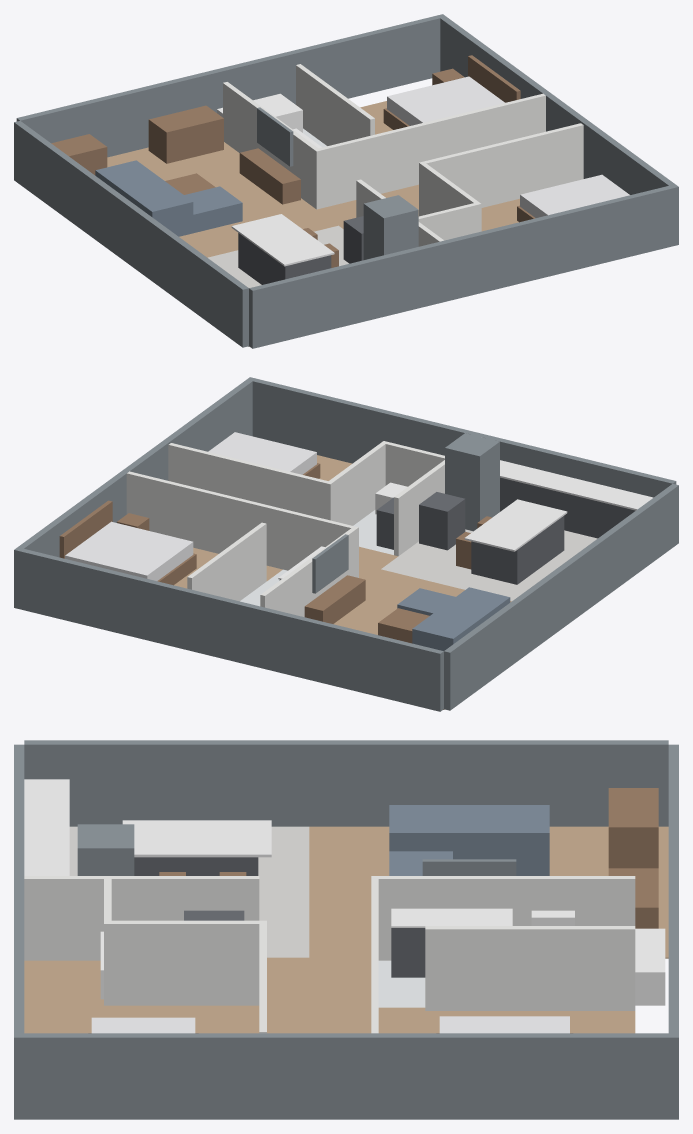
Rendered from sams_way_120.glb.
The picture shows the model from 3 angles, top to bottom: view 1: azimuth 30°, elevation 25°; view 2: azimuth 150°, elevation 25°; view 3: azimuth 270°, elevation 25°; orthographic projection. The views are drawn at different scales.
Parts seen in each view (by area): view 1: Wall_Ext_West, Wall_Ext_South_Bed2, Wall_Ext_South_Kitchen, Wall_Ext_North_Bed1, Wall_Bed2_North_Wall, Wall_Ext_East, Wall_Ext_North_Living, Wall_Bed1_South_Wall, Floor_LivingRoom, Wall_Bath1_Hall_Wall, Wall_Spine_North, Wall_Bath1_Bed1_Wall (+22 smaller); view 2: Wall_Ext_West, Wall_Ext_North_Living, Wall_Ext_North_Bed1, Wall_Ext_South_Bed2, Wall_Bed1_South_Wall, Wall_Ext_East, Wall_Bed2_North_Wall, Bed1_Mattress, Wall_Ext_North_Bath1, Floor_Kitchen, Fridge, Wall_Ext_South_Kitchen (+26 smaller); view 3: Wall_Ext_East, Wall_Ext_West, Wall_Bath1_Bed1_Wall, Floor_LivingRoom, Wall_Bath2_Bed2_Wall, Wall_Spine_South, Wall_Spine_North, Sofa_Main, Floor_Hallway, Floor_Kitchen, Floor_Bedroom2, Kitchen_Island_Top (+23 smaller).
Part boxes in pixels (x1,y1,x2,y2): Wall_Ext_West: (14, 121, 248, 347); Wall_Ext_South_Bed2: (440, 186, 672, 302); Wall_Ext_South_Kitchen: (249, 241, 443, 348); Wall_Ext_North_Bed1: (281, 14, 445, 104); Wall_Bed2_North_Wall: (419, 123, 583, 216); Wall_Ext_East: (440, 16, 678, 246); Wall_Ext_North_Living: (16, 71, 210, 157); Wall_Bed1_South_Wall: (387, 93, 545, 191); Floor_LivingRoom: (107, 142, 337, 257); Wall_Bath1_Hall_Wall: (319, 132, 389, 208); Wall_Spine_North: (223, 82, 321, 209); Wall_Bath1_Bed1_Wall: (296, 64, 374, 145); Wall_Ext_West: (444, 484, 678, 710); Wall_Ext_North_Living: (249, 604, 443, 711); Wall_Ext_North_Bed1: (14, 547, 179, 647); Wall_Ext_South_Bed2: (252, 378, 485, 463); Wall_Bed1_South_Wall: (126, 471, 285, 569); Wall_Ext_East: (18, 377, 255, 557); Wall_Bed2_North_Wall: (168, 443, 333, 520); Bed1_Mattress: (65, 521, 193, 580); Wall_Ext_North_Bath1: (176, 587, 252, 665); Floor_Kitchen: (381, 529, 597, 601); Fridge: (445, 433, 499, 531); Wall_Ext_South_Kitchen: (482, 434, 676, 497); Wall_Ext_East: (14, 1033, 668, 1119); Wall_Ext_West: (24, 740, 668, 826); Wall_Bath1_Bed1_Wall: (425, 926, 635, 1010); Floor_LivingRoom: (309, 826, 668, 958); Wall_Bath2_Bed2_Wall: (104, 920, 259, 1005); Wall_Spine_South: (24, 876, 259, 960); Wall_Spine_North: (378, 876, 635, 960); Sofa_Main: (389, 805, 549, 875); Floor_Hallway: (267, 957, 371, 1030); Floor_Kitchen: (69, 826, 309, 957); Floor_Bedroom2: (24, 1002, 259, 1033); Kitchen_Island_Top: (122, 820, 271, 857).
Size of the model in its own units: 10.53 by 1.8 by 9.95.
